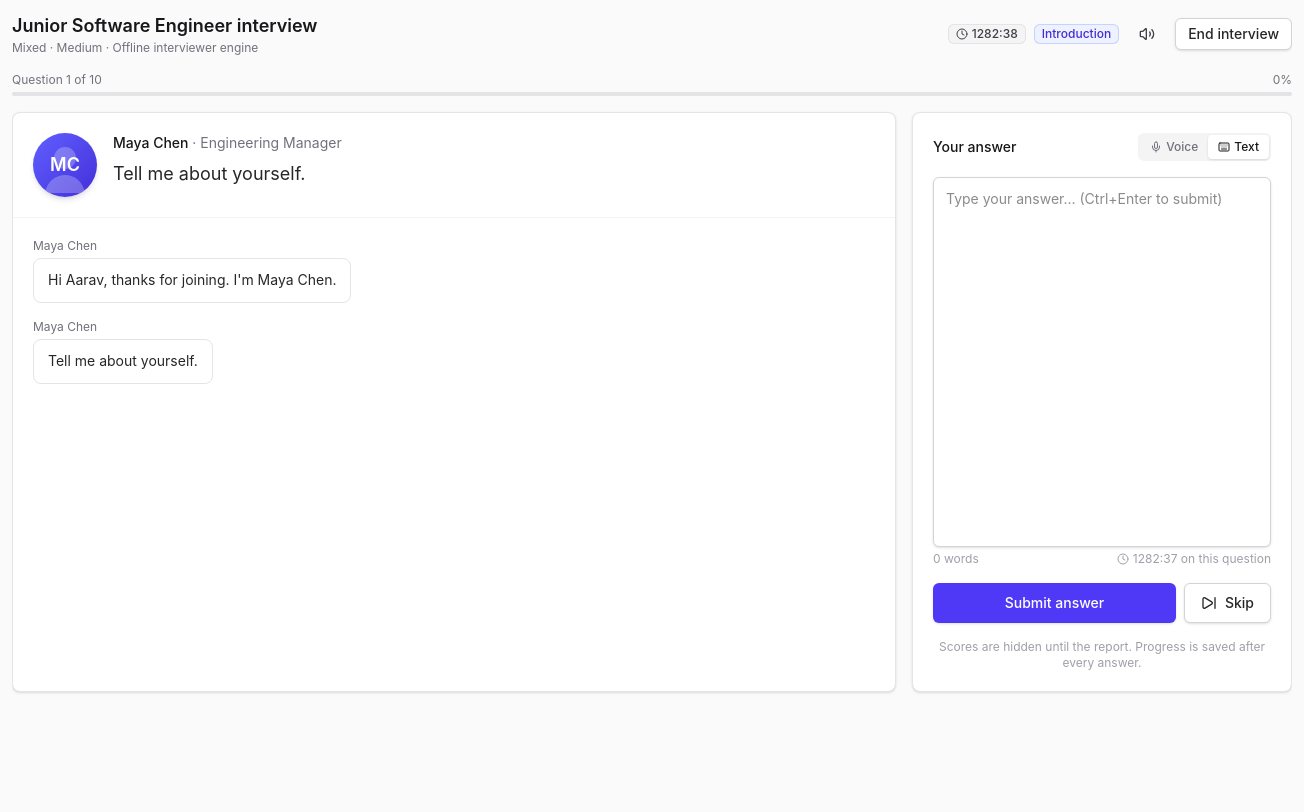
Test case: Interview room › blocks empty answers with a helpful message
Expected: the text with test id "current-question" is shown, [113, 163, 306, 184]
Click the button with test id "submit-answer" at (1054, 603), box [933, 583, 1176, 623]
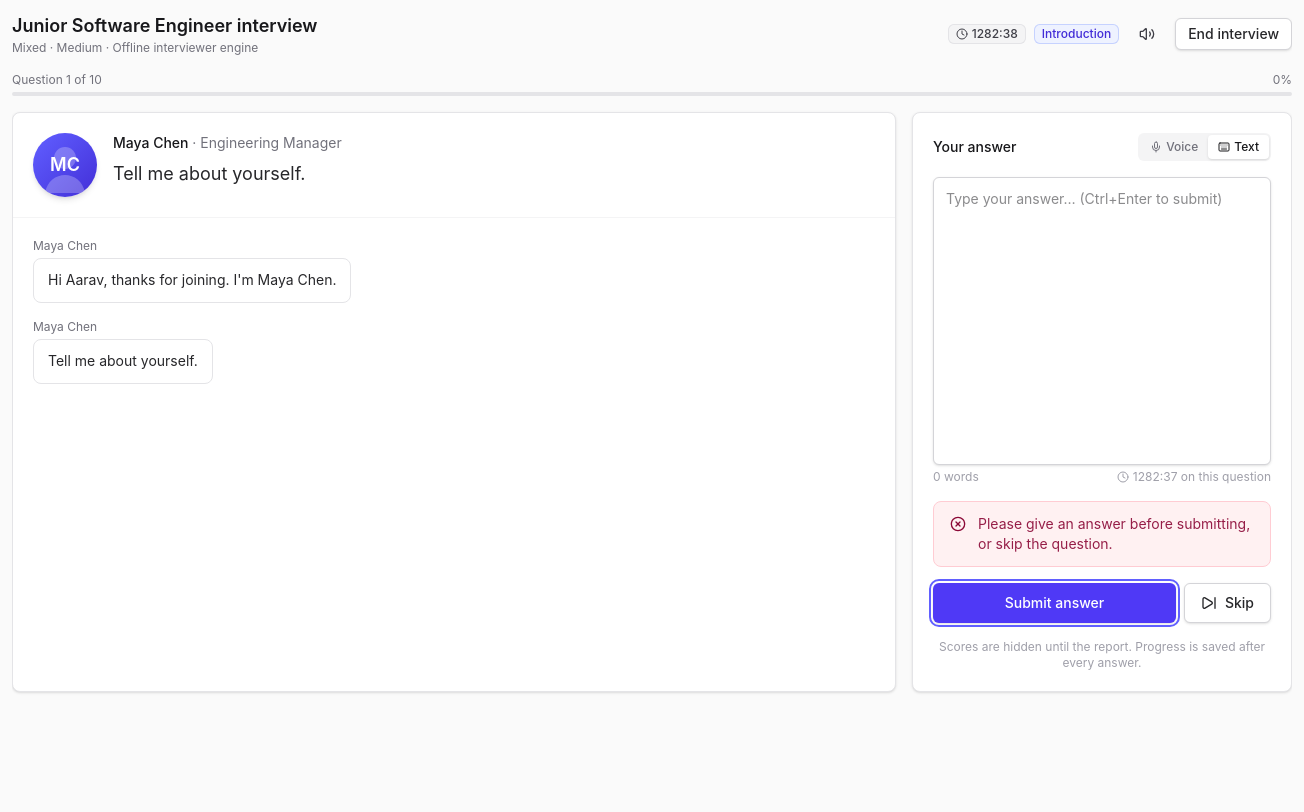
Expected: the text "Please give an answer" is shown, [978, 515, 1250, 552]
